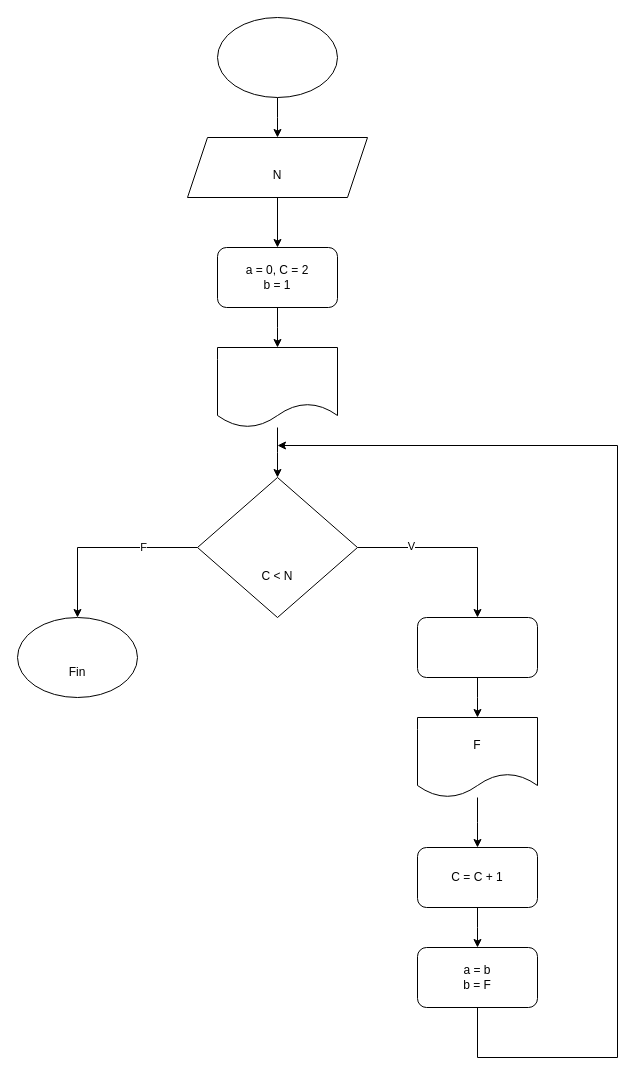
The diagram is 643 pixels wide and 1083 high, and some of its shapes have lost their labels. Here are the shapes that lost their labels. From the top down, the centre of each, then its label:
At pixel 277 57: "Inicio".
At pixel 277 387: "a, b".
At pixel 477 647: "F = a + b".
